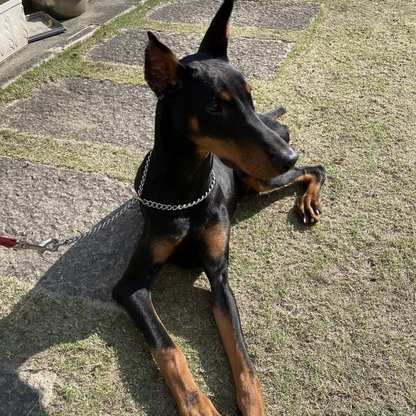doberman: (134, 10, 326, 416)
